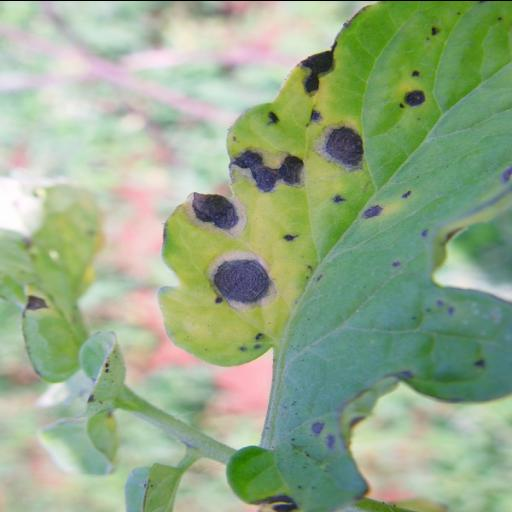Early Blight: (157, 0, 509, 512)
